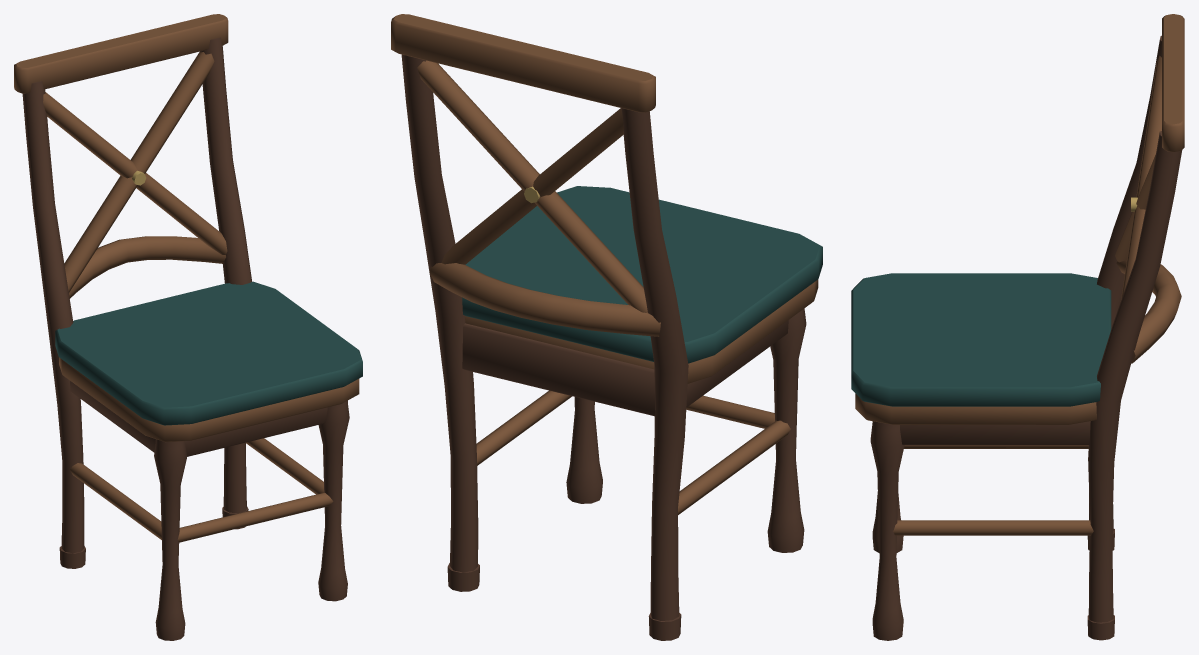
File: rpg-mansion-x-back-01.glb
3 renders of one model, left to right at view 1: azimuth 30°, elevation 25°; view 2: azimuth 150°, elevation 25°; view 3: azimuth 270°, elevation 25°, orthographic. The views are drawn at different scales.
Parts seen in each view (by area): view 1: rpg-mansion-x-back-01; view 2: rpg-mansion-x-back-01; view 3: rpg-mansion-x-back-01.
Boxes of the visible parts, x1,y1,x2,y2 form: rpg-mansion-x-back-01: [14, 14, 362, 640]; rpg-mansion-x-back-01: [391, 14, 822, 640]; rpg-mansion-x-back-01: [851, 14, 1184, 640].
Bounding box in the file's own units: 0.437 × 0.92 × 0.532.
